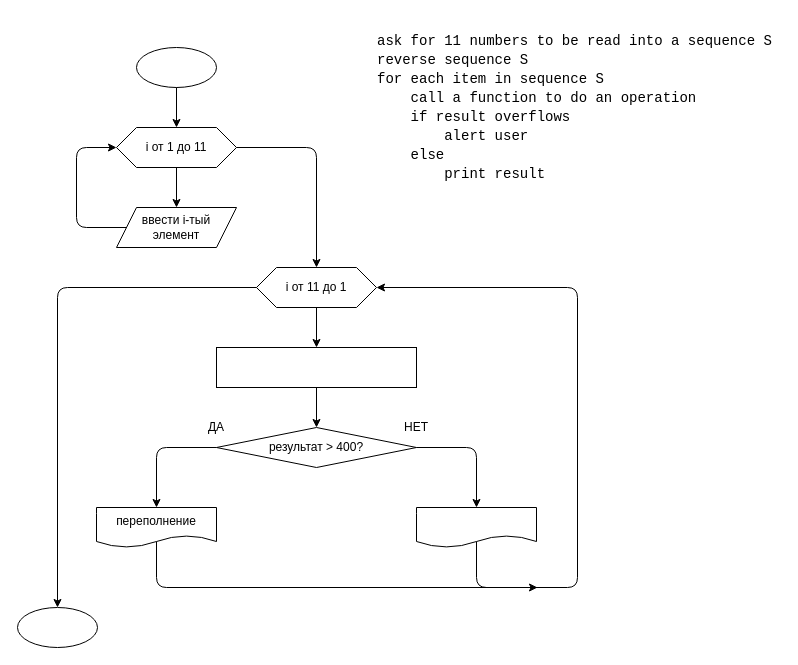
This 798x665 diagram has some shape labels left out. Each missing label, with the box of its shape:
f(x)=sqrt(|x|)+5*x**3: (216, 346, 416, 388)
результат: (416, 506, 536, 548)
